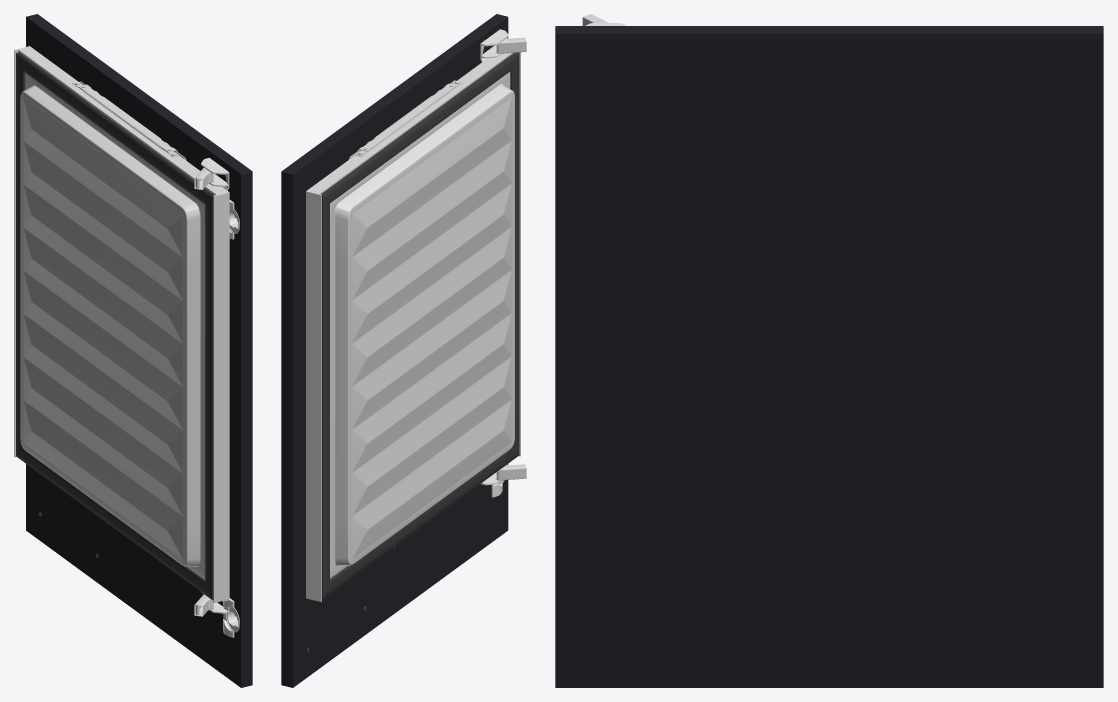
File: FridgeDoor02.fbx
3 views of the same model, side by side, from view 1: azimuth 30°, elevation 25°; view 2: azimuth 150°, elevation 25°; view 3: azimuth 270°, elevation 25° (orthographic). The views are drawn at different scales.
Visible parts, largest first — view 1: FridgeDoor02; view 2: FridgeDoor02; view 3: FridgeDoor02.
Boxes of the visible parts, bbox=[...] form: FridgeDoor02: bbox=[14, 14, 252, 687]; FridgeDoor02: bbox=[281, 14, 526, 687]; FridgeDoor02: bbox=[555, 14, 1103, 687].
Size of what is drawn, in the model's own units: 7.4 by 59.69 by 78.65.
4 materials, 1 textured.
